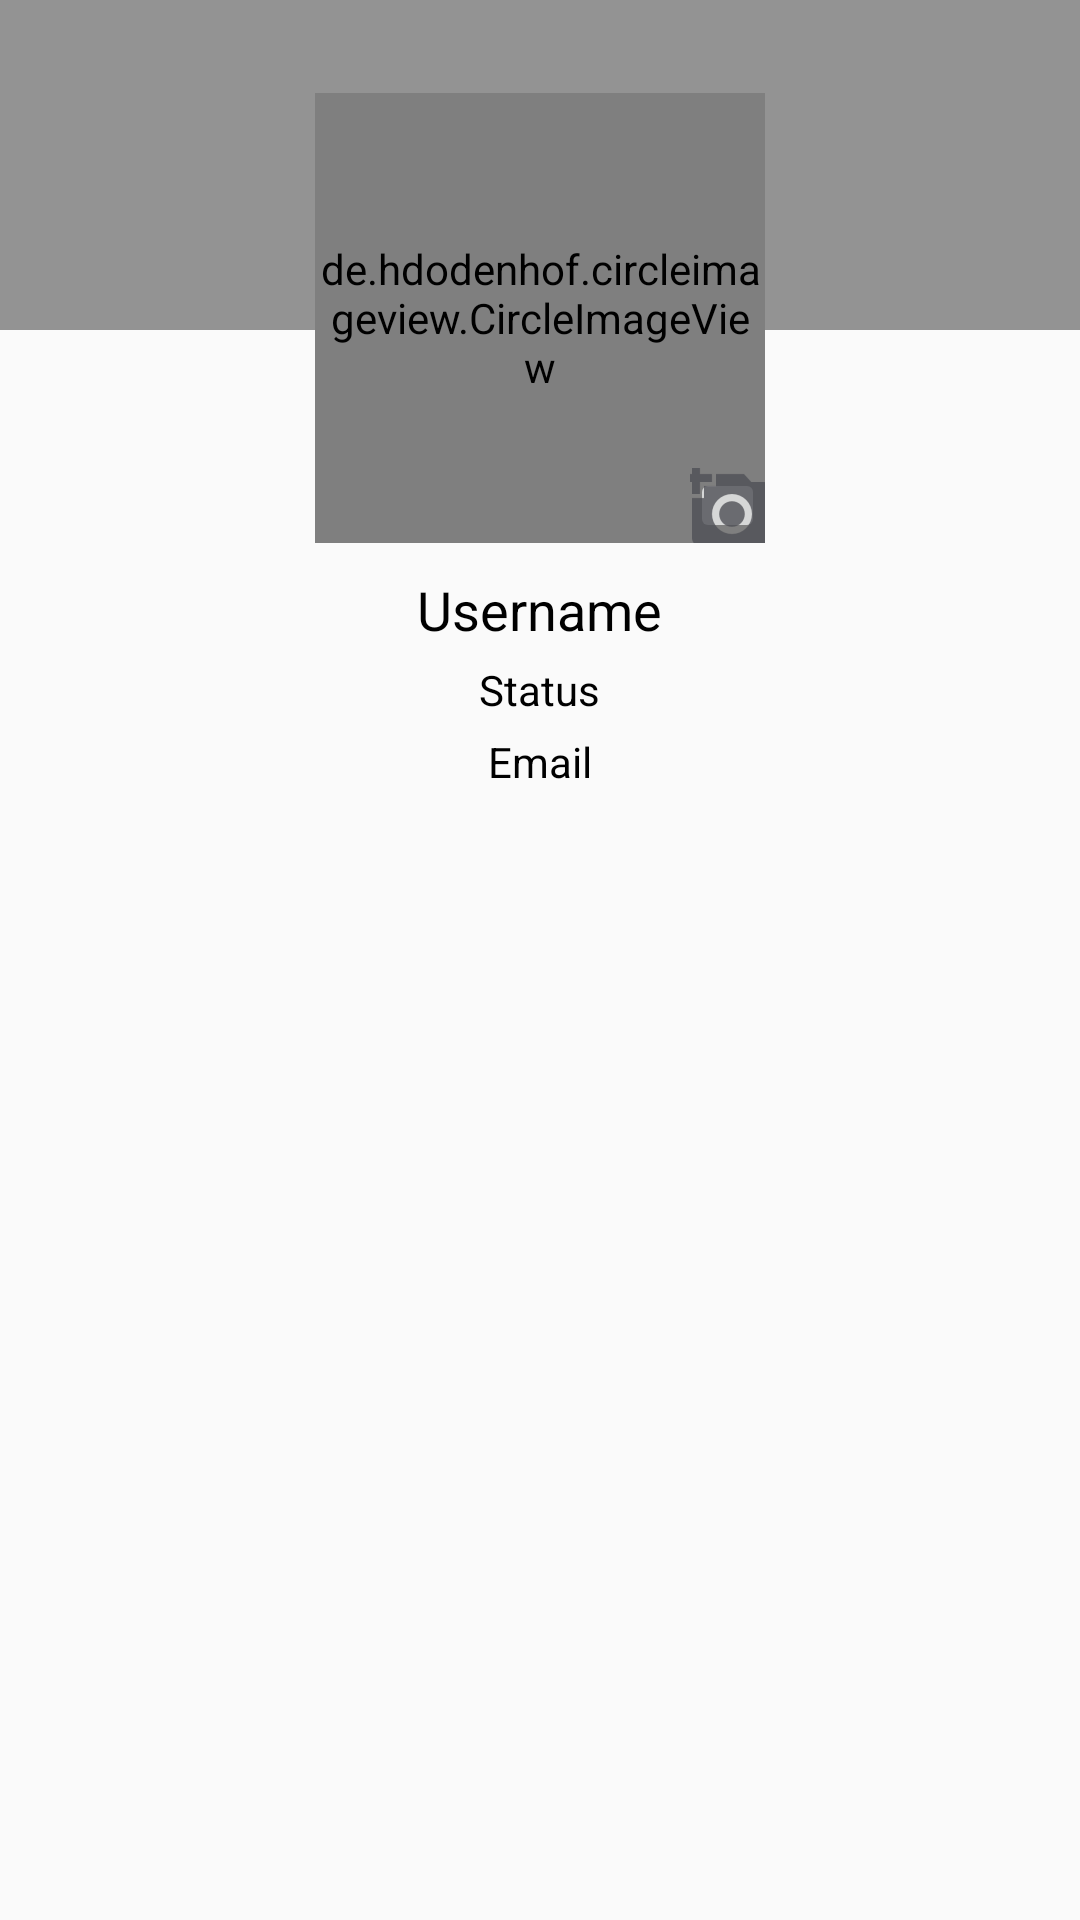

Named icons in this screenshot (1080px×1920px) and their centers, [x,y]:
photo: [727,505]
